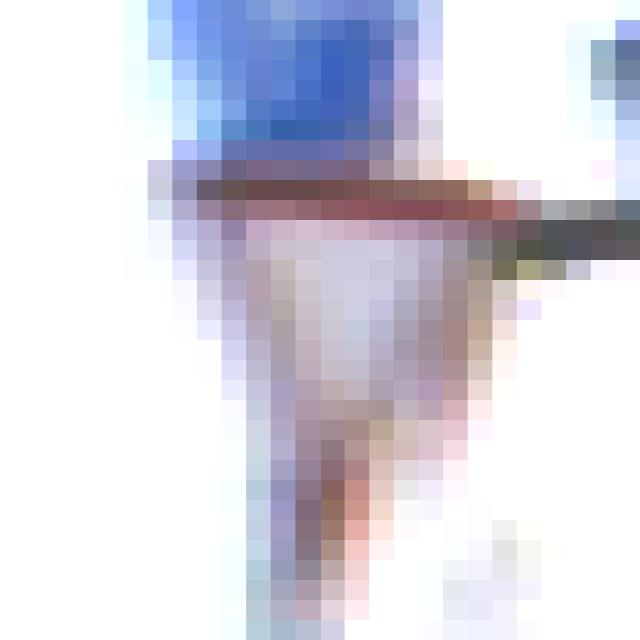Give Way: (124, 121, 493, 521)
